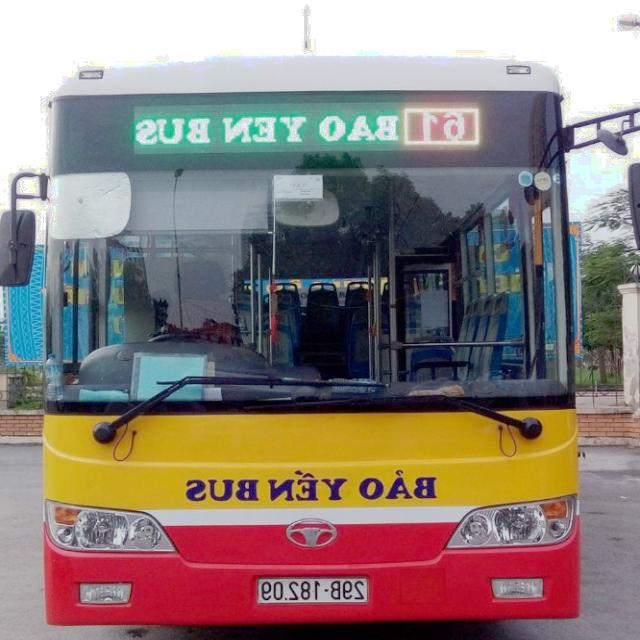Car: (0, 56, 640, 628)
